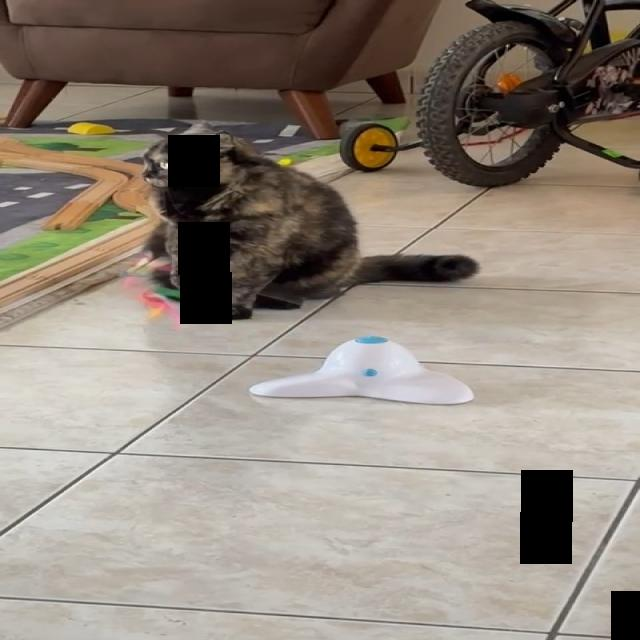authorized: (137, 120, 480, 320)
